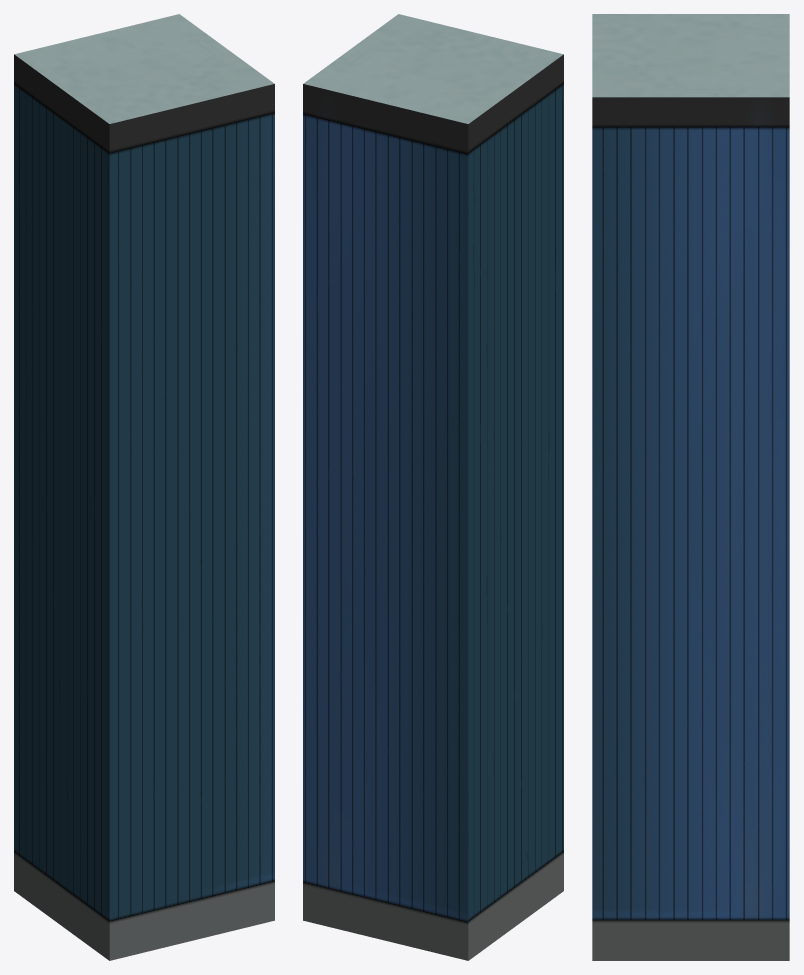
File: SKYSCRAPER_2.fbx
The picture shows the model from 3 angles, left to right: view 1: azimuth 30°, elevation 25°; view 2: azimuth 150°, elevation 25°; view 3: azimuth 270°, elevation 25°; orthographic projection. The views are drawn at different scales.
Visible parts, largest first — view 1: Skyscraper2; view 2: Skyscraper2; view 3: Skyscraper2.
Boxes of the visible parts, left/top/right/bottom form: Skyscraper2: left=14, top=14, right=274, bottom=960; Skyscraper2: left=303, top=14, right=563, bottom=960; Skyscraper2: left=592, top=14, right=789, bottom=960.
Size of the model in its own units: 1364 by 6596 by 1364.
Materials: 1 (1 with a texture image).
